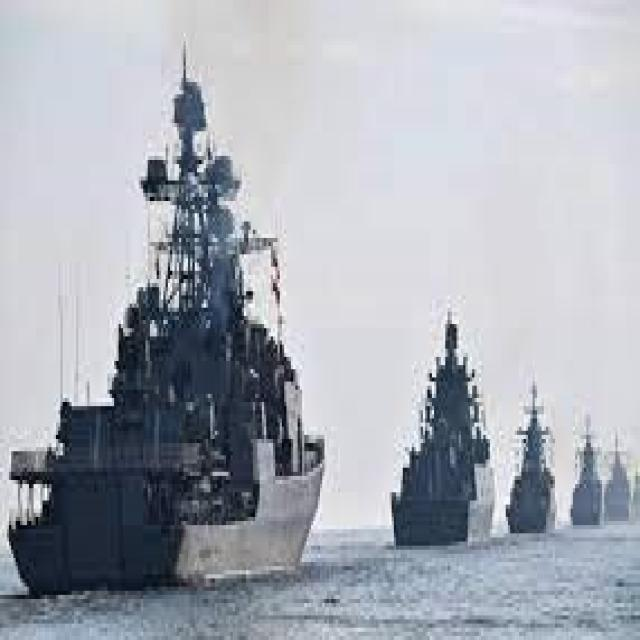navalvessels: (2, 68, 328, 600), (397, 289, 496, 553), (509, 388, 556, 556), (569, 402, 602, 526), (604, 423, 640, 525)
